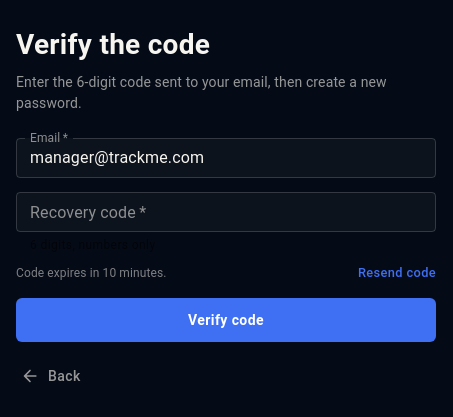
Test: ForgotPasswordVerifyPage › resends the code and starts a cooldown, disabling the resend button (issue #56)
Click the button "Resend code": (397,273) [358, 262, 436, 284]
Wait 1000 ms
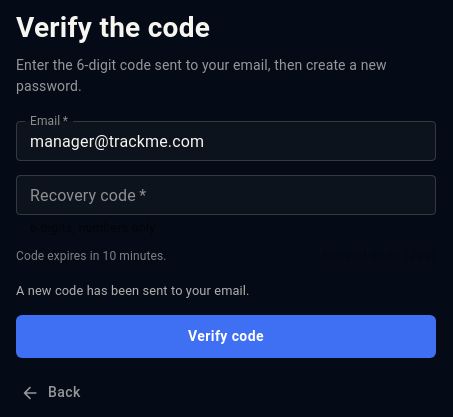
Now the text "A new code has been sent to your email." is shown, box [16, 284, 250, 298]
